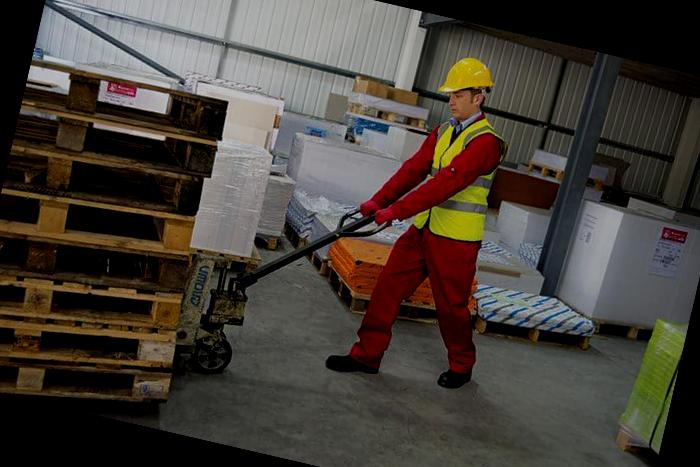helmet: (432, 48, 502, 112)
person: (325, 34, 544, 402)
